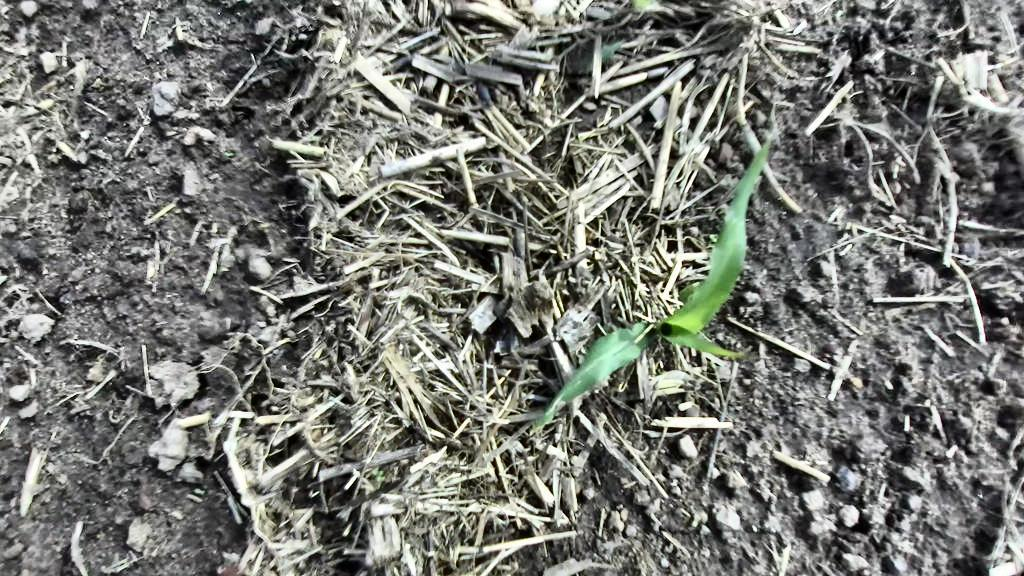BroWeed: (596, 32, 624, 66), (690, 512, 703, 528), (707, 232, 718, 244), (371, 468, 384, 477), (626, 132, 636, 143), (708, 359, 717, 369), (224, 149, 234, 156), (194, 488, 205, 494), (374, 475, 384, 481)
Maize: (505, 132, 868, 495)
